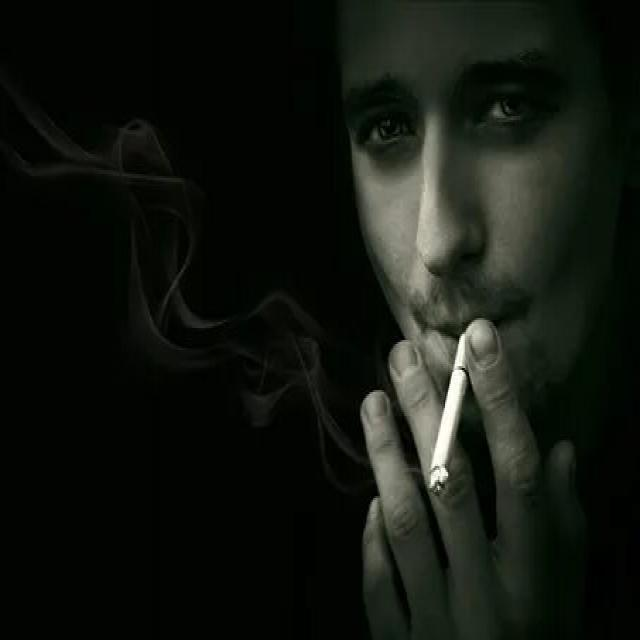smoke: (428, 326, 479, 500)
